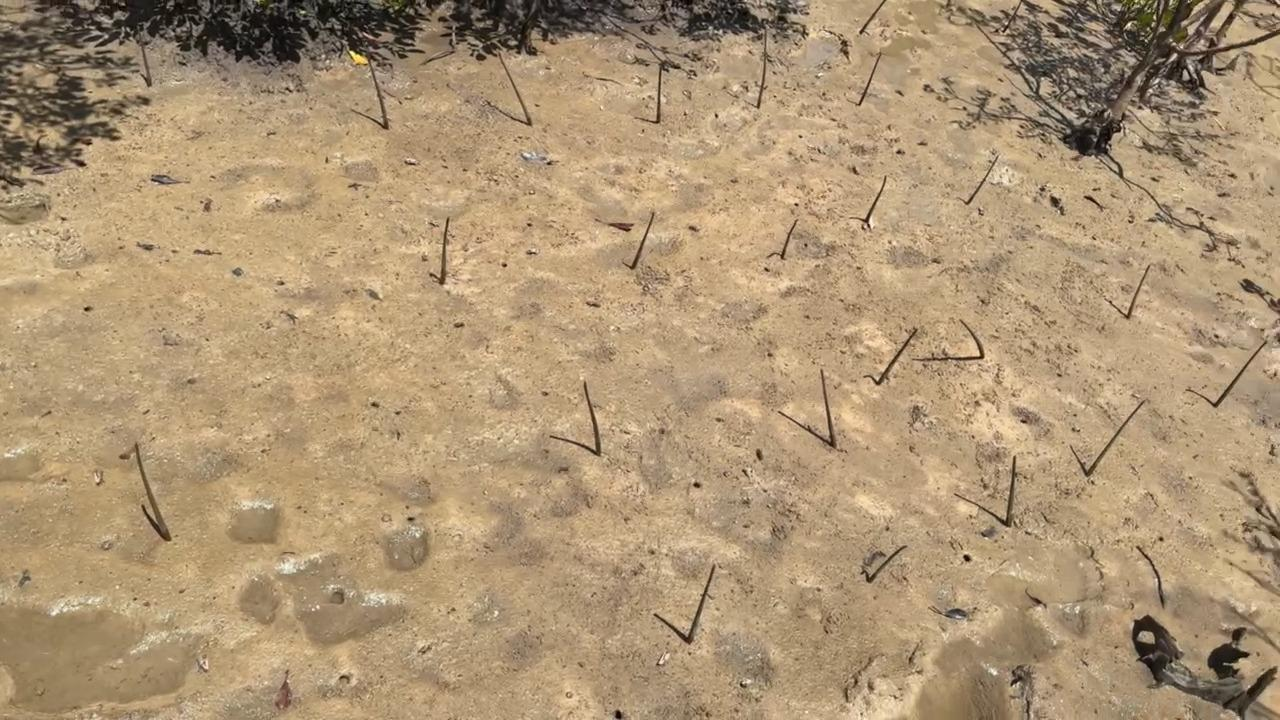Tree: (1086, 400, 1145, 476), (133, 442, 171, 542), (1214, 341, 1267, 407), (498, 53, 532, 126), (687, 564, 717, 643), (876, 327, 917, 384), (365, 52, 390, 129), (965, 155, 999, 205), (869, 545, 909, 582), (819, 368, 837, 447), (630, 213, 655, 269), (583, 383, 601, 457), (858, 53, 882, 106), (1128, 265, 1150, 317), (865, 176, 887, 224), (958, 321, 984, 358), (858, 0, 886, 34), (757, 28, 767, 109), (1005, 455, 1016, 528), (139, 32, 152, 88), (781, 220, 799, 260), (1002, 0, 1021, 33), (440, 217, 449, 285), (656, 67, 663, 122)
